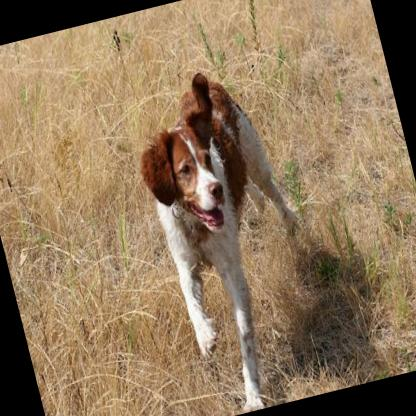Brittany_spaniel: (115, 55, 339, 416)
